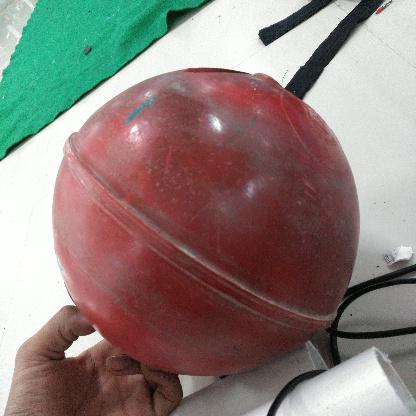red_buoy: (51, 64, 370, 380)
